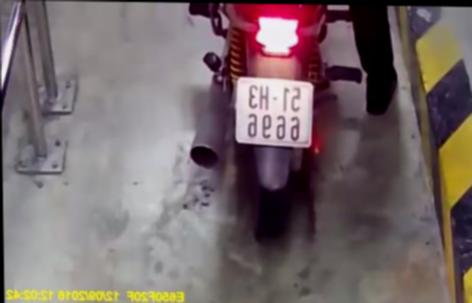License_Plate: (232, 72, 319, 157)
